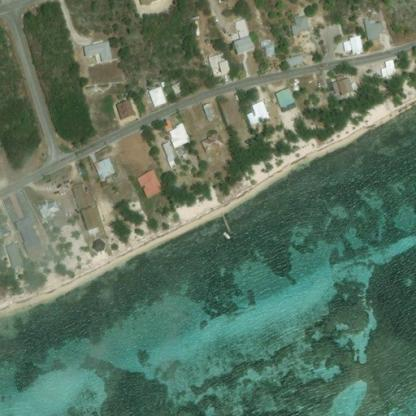ship: (218, 226, 233, 244)
